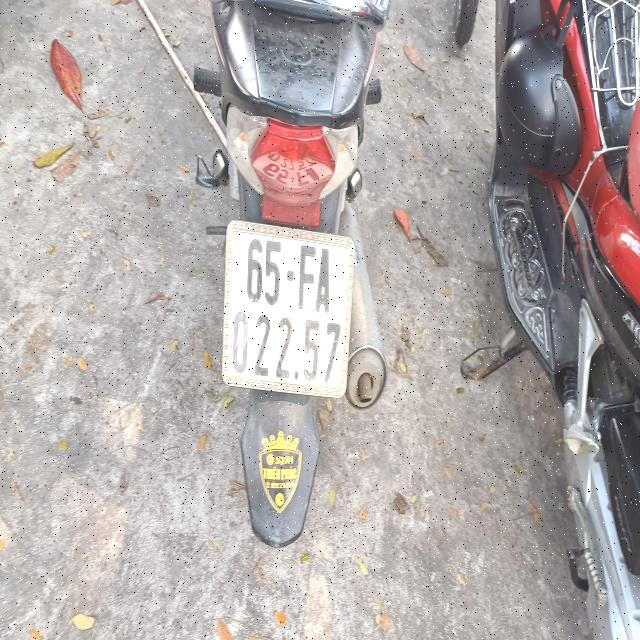0: (231, 310, 251, 374)
2: (275, 317, 292, 381), (254, 313, 270, 377)
5: (302, 318, 321, 383), (264, 240, 282, 305)
6: (246, 238, 263, 304)
7: (323, 322, 341, 383)
A: (314, 249, 331, 311)
F: (297, 242, 316, 312)
